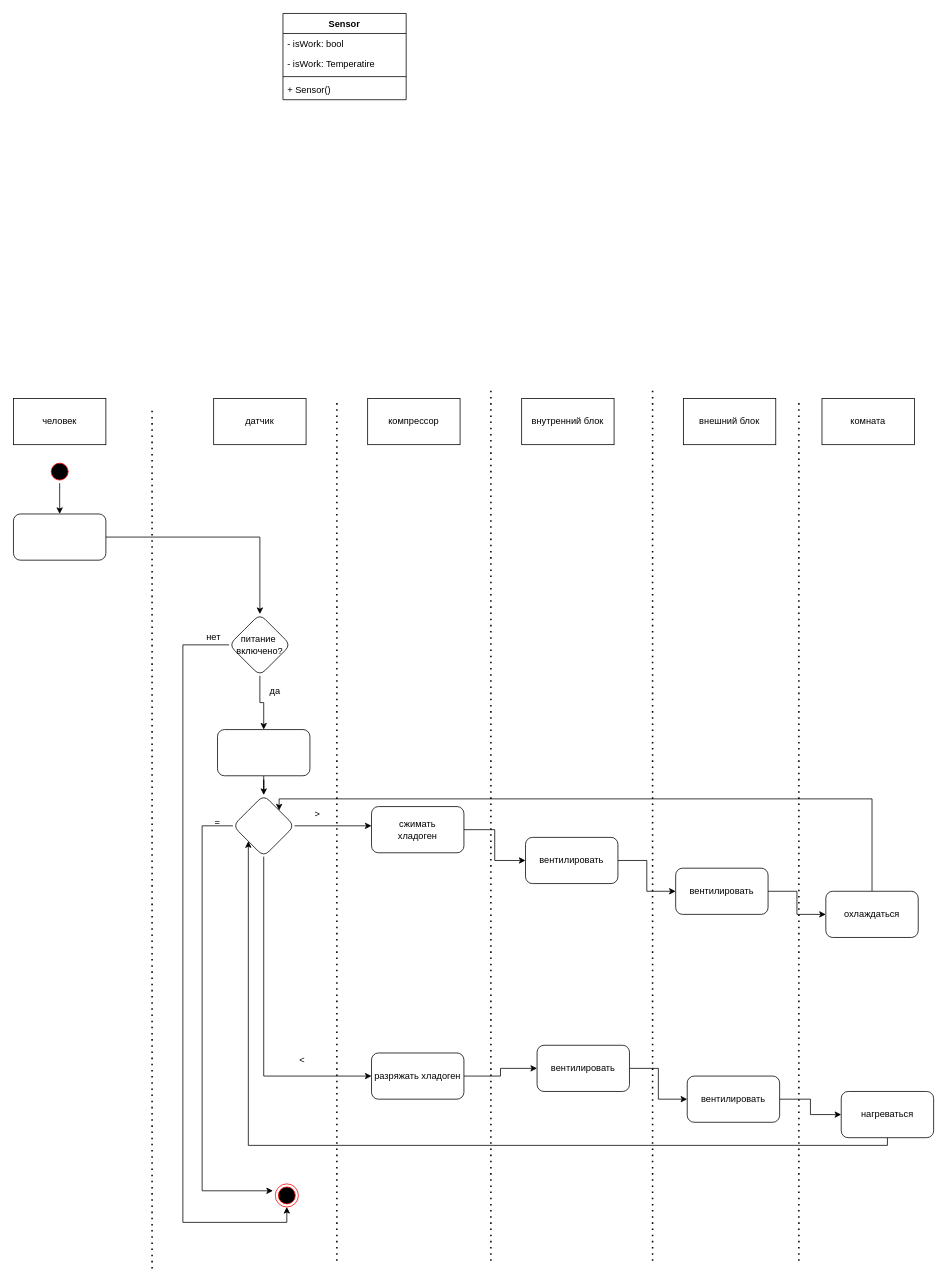
The diagram is 947 pixels wide and 1284 high, and some of its shapes have lost their labels. Each missing label, with the centre of its shape:
задать нужную температуру: (59,536)
сравнивание с заданной температурой: (263,825)
считать температуру комнаты: (263,752)
